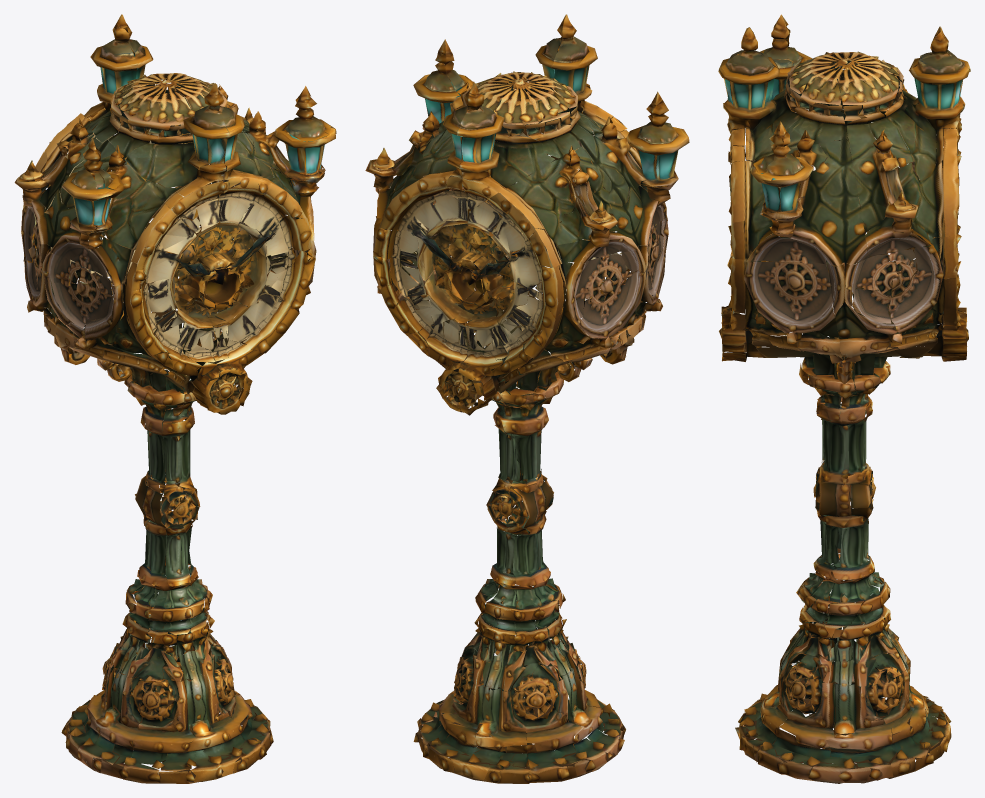
3 renders of one model, left to right at view 1: azimuth 30°, elevation 25°; view 2: azimuth 150°, elevation 25°; view 3: azimuth 270°, elevation 25°, orthographic. The views are drawn at different scales.
Visible parts, largest first — view 1: tripo_node_a68cd8fb-7ea0-4c02-a747-5de0306f88e6; view 2: tripo_node_a68cd8fb-7ea0-4c02-a747-5de0306f88e6; view 3: tripo_node_a68cd8fb-7ea0-4c02-a747-5de0306f88e6.
Boxes of the visible parts, x1,y1,x2,y2 form: tripo_node_a68cd8fb-7ea0-4c02-a747-5de0306f88e6: (14,14,336,783); tripo_node_a68cd8fb-7ea0-4c02-a747-5de0306f88e6: (365,14,689,783); tripo_node_a68cd8fb-7ea0-4c02-a747-5de0306f88e6: (718,14,970,783).
Bounding box in the file's own units: 0.3834 × 0.9765 × 0.3089.
Materials: 1 (1 with a texture image).
